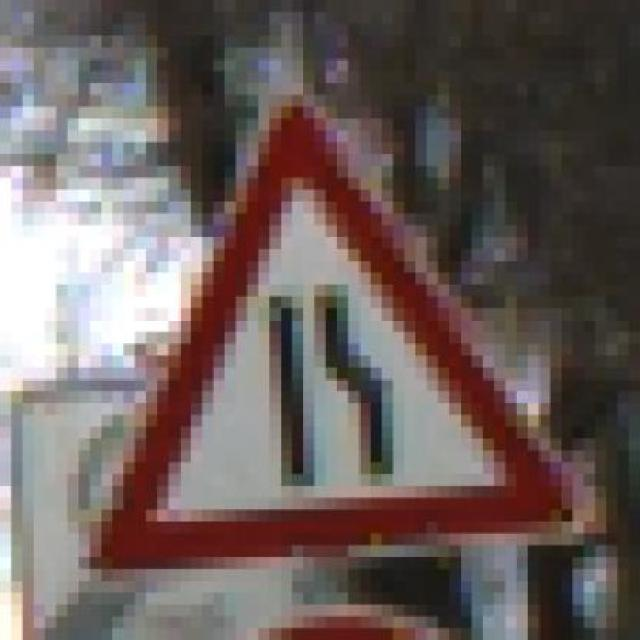-Road narrows on right: (69, 71, 586, 592)
